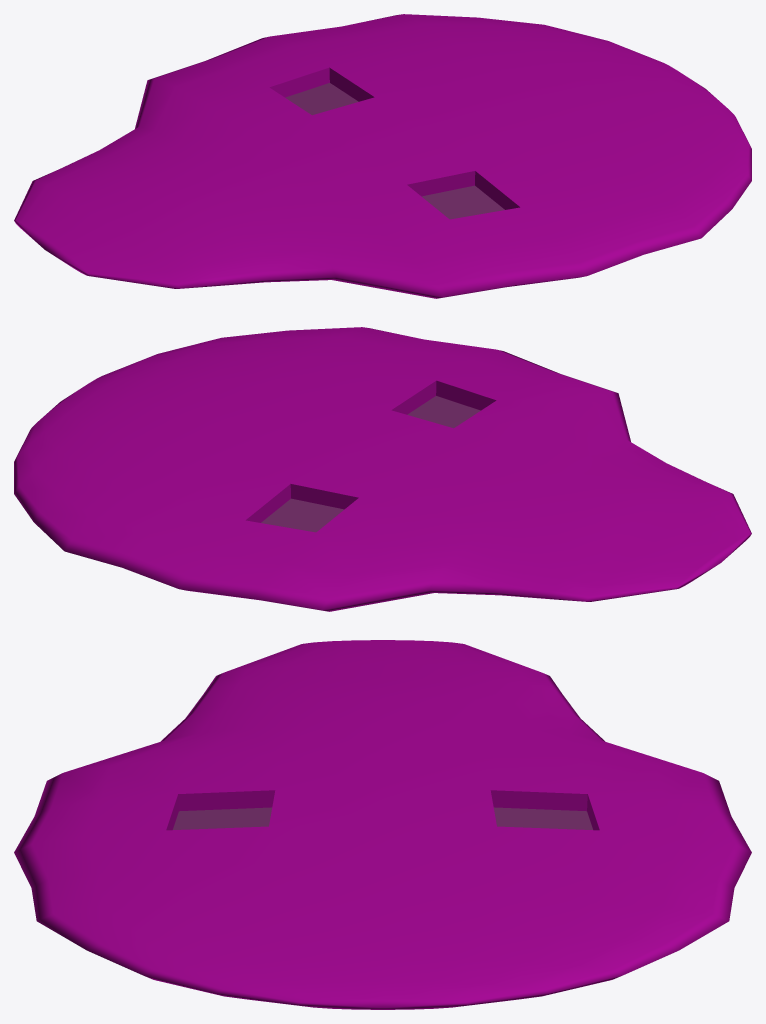
The model's file is Rune_Prop_3_Model.fbx.
3 renders of one model, top to bottom at view 1: azimuth 30°, elevation 25°; view 2: azimuth 150°, elevation 25°; view 3: azimuth 270°, elevation 25°, orthographic. The views are drawn at different scales.
Parts seen in each view (by area): view 1: polySurface1; view 2: polySurface1; view 3: polySurface1.
Part boxes in pixels (bbox=[...]): polySurface1: bbox=[14, 14, 751, 298]; polySurface1: bbox=[14, 327, 751, 611]; polySurface1: bbox=[14, 640, 751, 1009].
Size of the model in its own units: 0.7993 by 0.0559 by 0.681.
